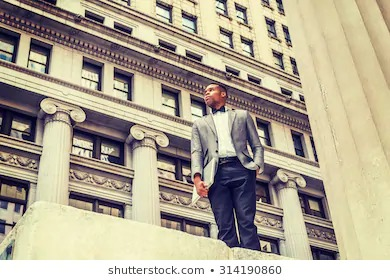F_M_suit jacket: (185, 106, 267, 176)
